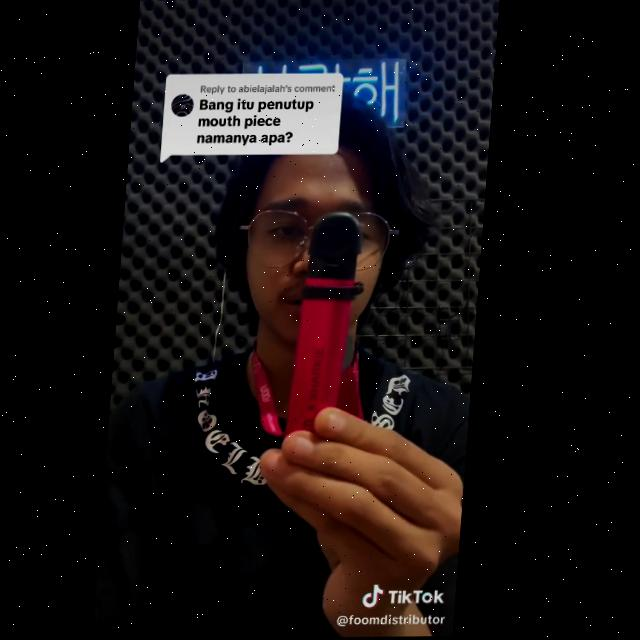vape: (291, 212, 369, 430)
